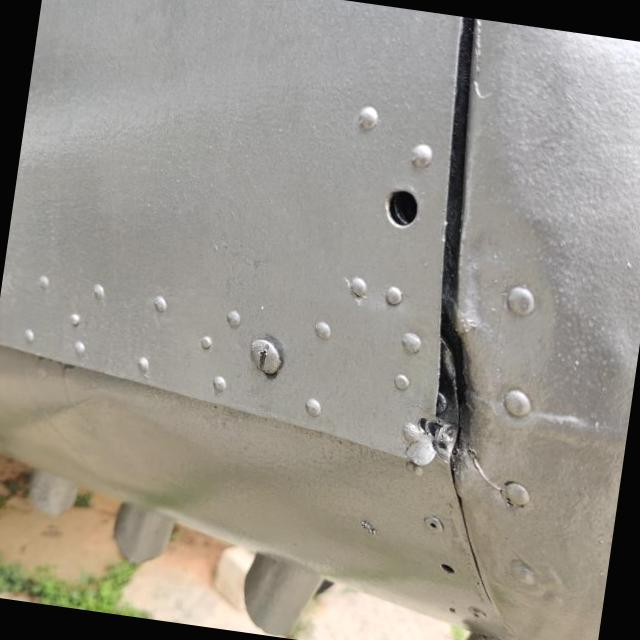Missing Fastener: (384, 188, 422, 230), (426, 560, 462, 584)
